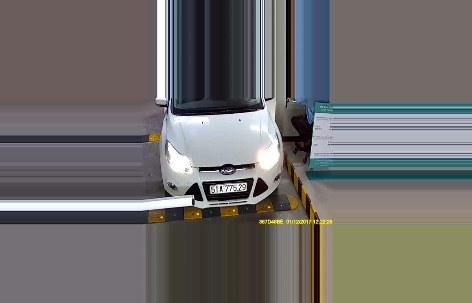plate: (207, 178, 255, 196)
